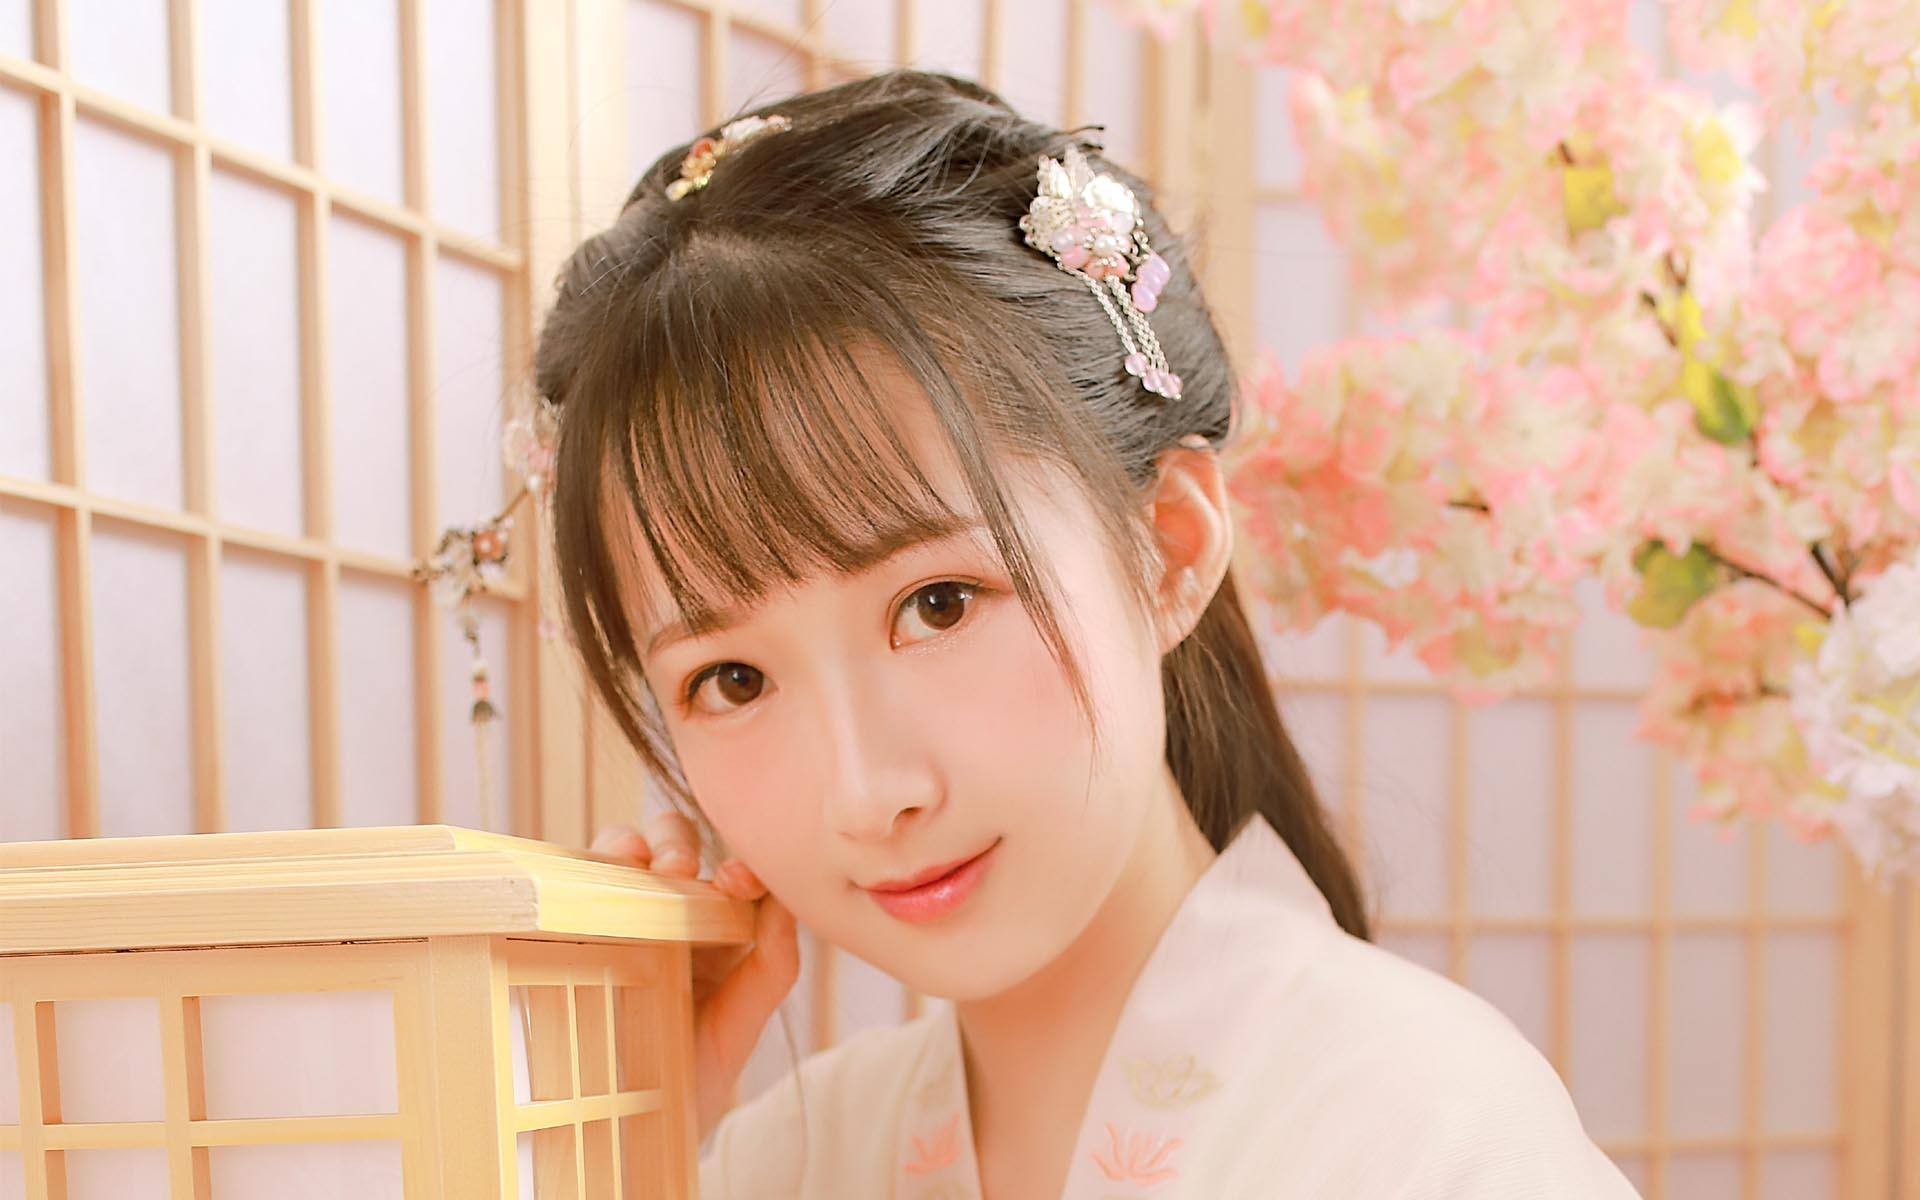person: (433, 105, 1468, 1200)
